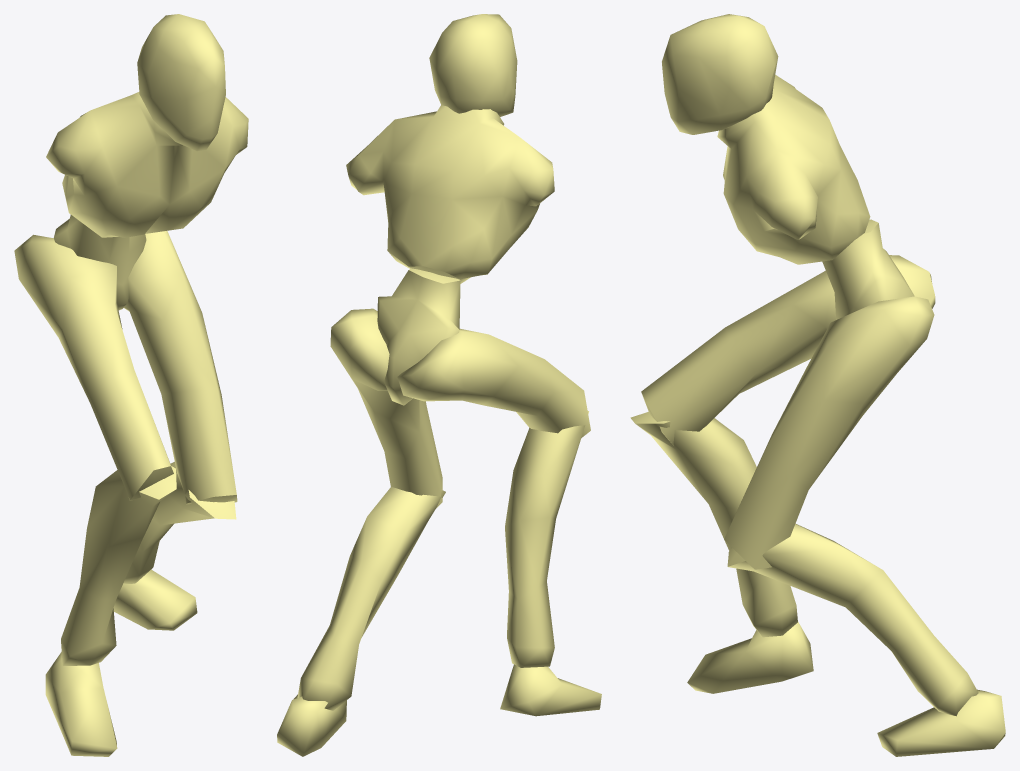
Rendered from filth48.obj.
The picture shows the model from 3 angles, left to right: view 1: azimuth 30°, elevation 25°; view 2: azimuth 150°, elevation 25°; view 3: azimuth 270°, elevation 25°; orthographic projection. The views are drawn at different scales.
Parts seen in each view (by area): view 1: Melee_Husk; view 2: Melee_Husk; view 3: Melee_Husk.
Part boxes in pixels (<box>): Melee_Husk: <box>14,14,248,756</box>; Melee_Husk: <box>277,14,601,756</box>; Melee_Husk: <box>630,14,1005,756</box>.
Size of the model in its own units: 22.11 by 67.9 by 32.1.
